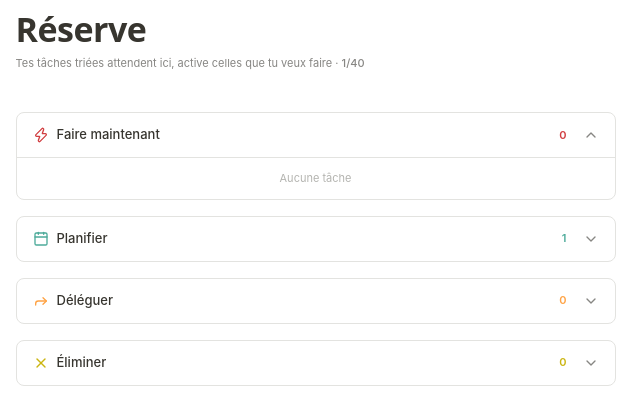
BacklogPage › re-tapping the open section collapses everything
The width and height of the screenshot is (633, 406).
Click the button "Planifier 1" at (82, 238), box [16,216,614,260]
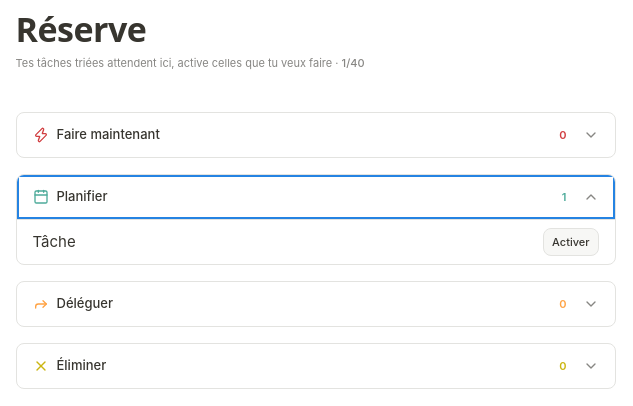
Expected: the button "Planifier 1" is expanded
Click the button "Planifier 1" at (82, 196), box [16,175,614,219]
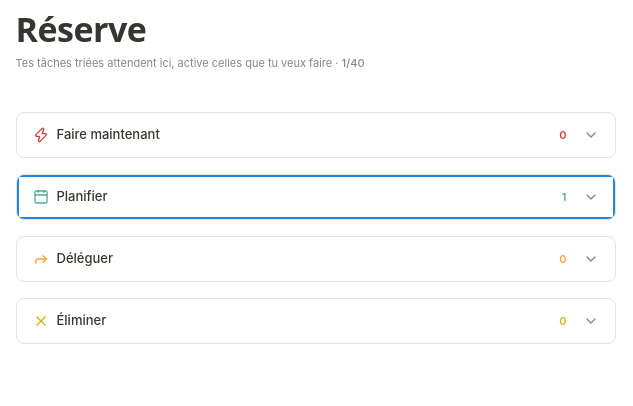
Expected: the button "Faire maintenant 0" is collapsed, [16,113,614,157]
Expected: the button "Planifier 1" is collapsed, [16,175,614,219]
